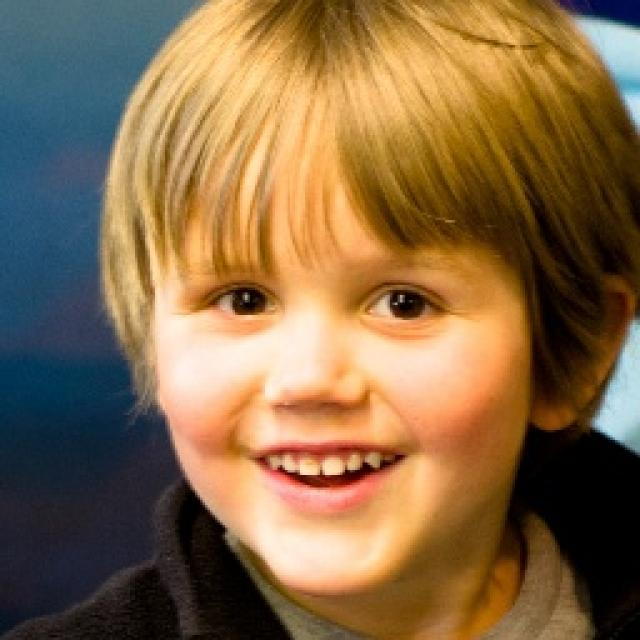earlobe: (528, 272, 638, 433)
